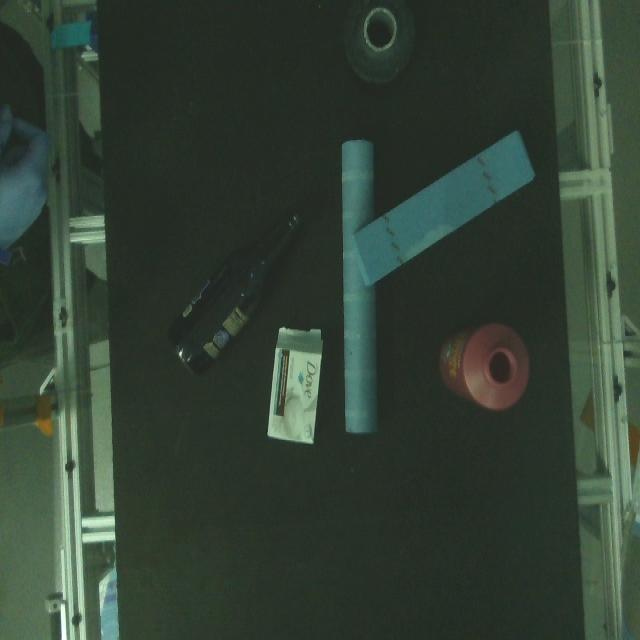non-paper: (160, 195, 314, 392), (434, 313, 542, 430), (332, 0, 428, 100)
paper: (349, 130, 543, 287), (344, 134, 379, 442), (266, 324, 333, 454)
